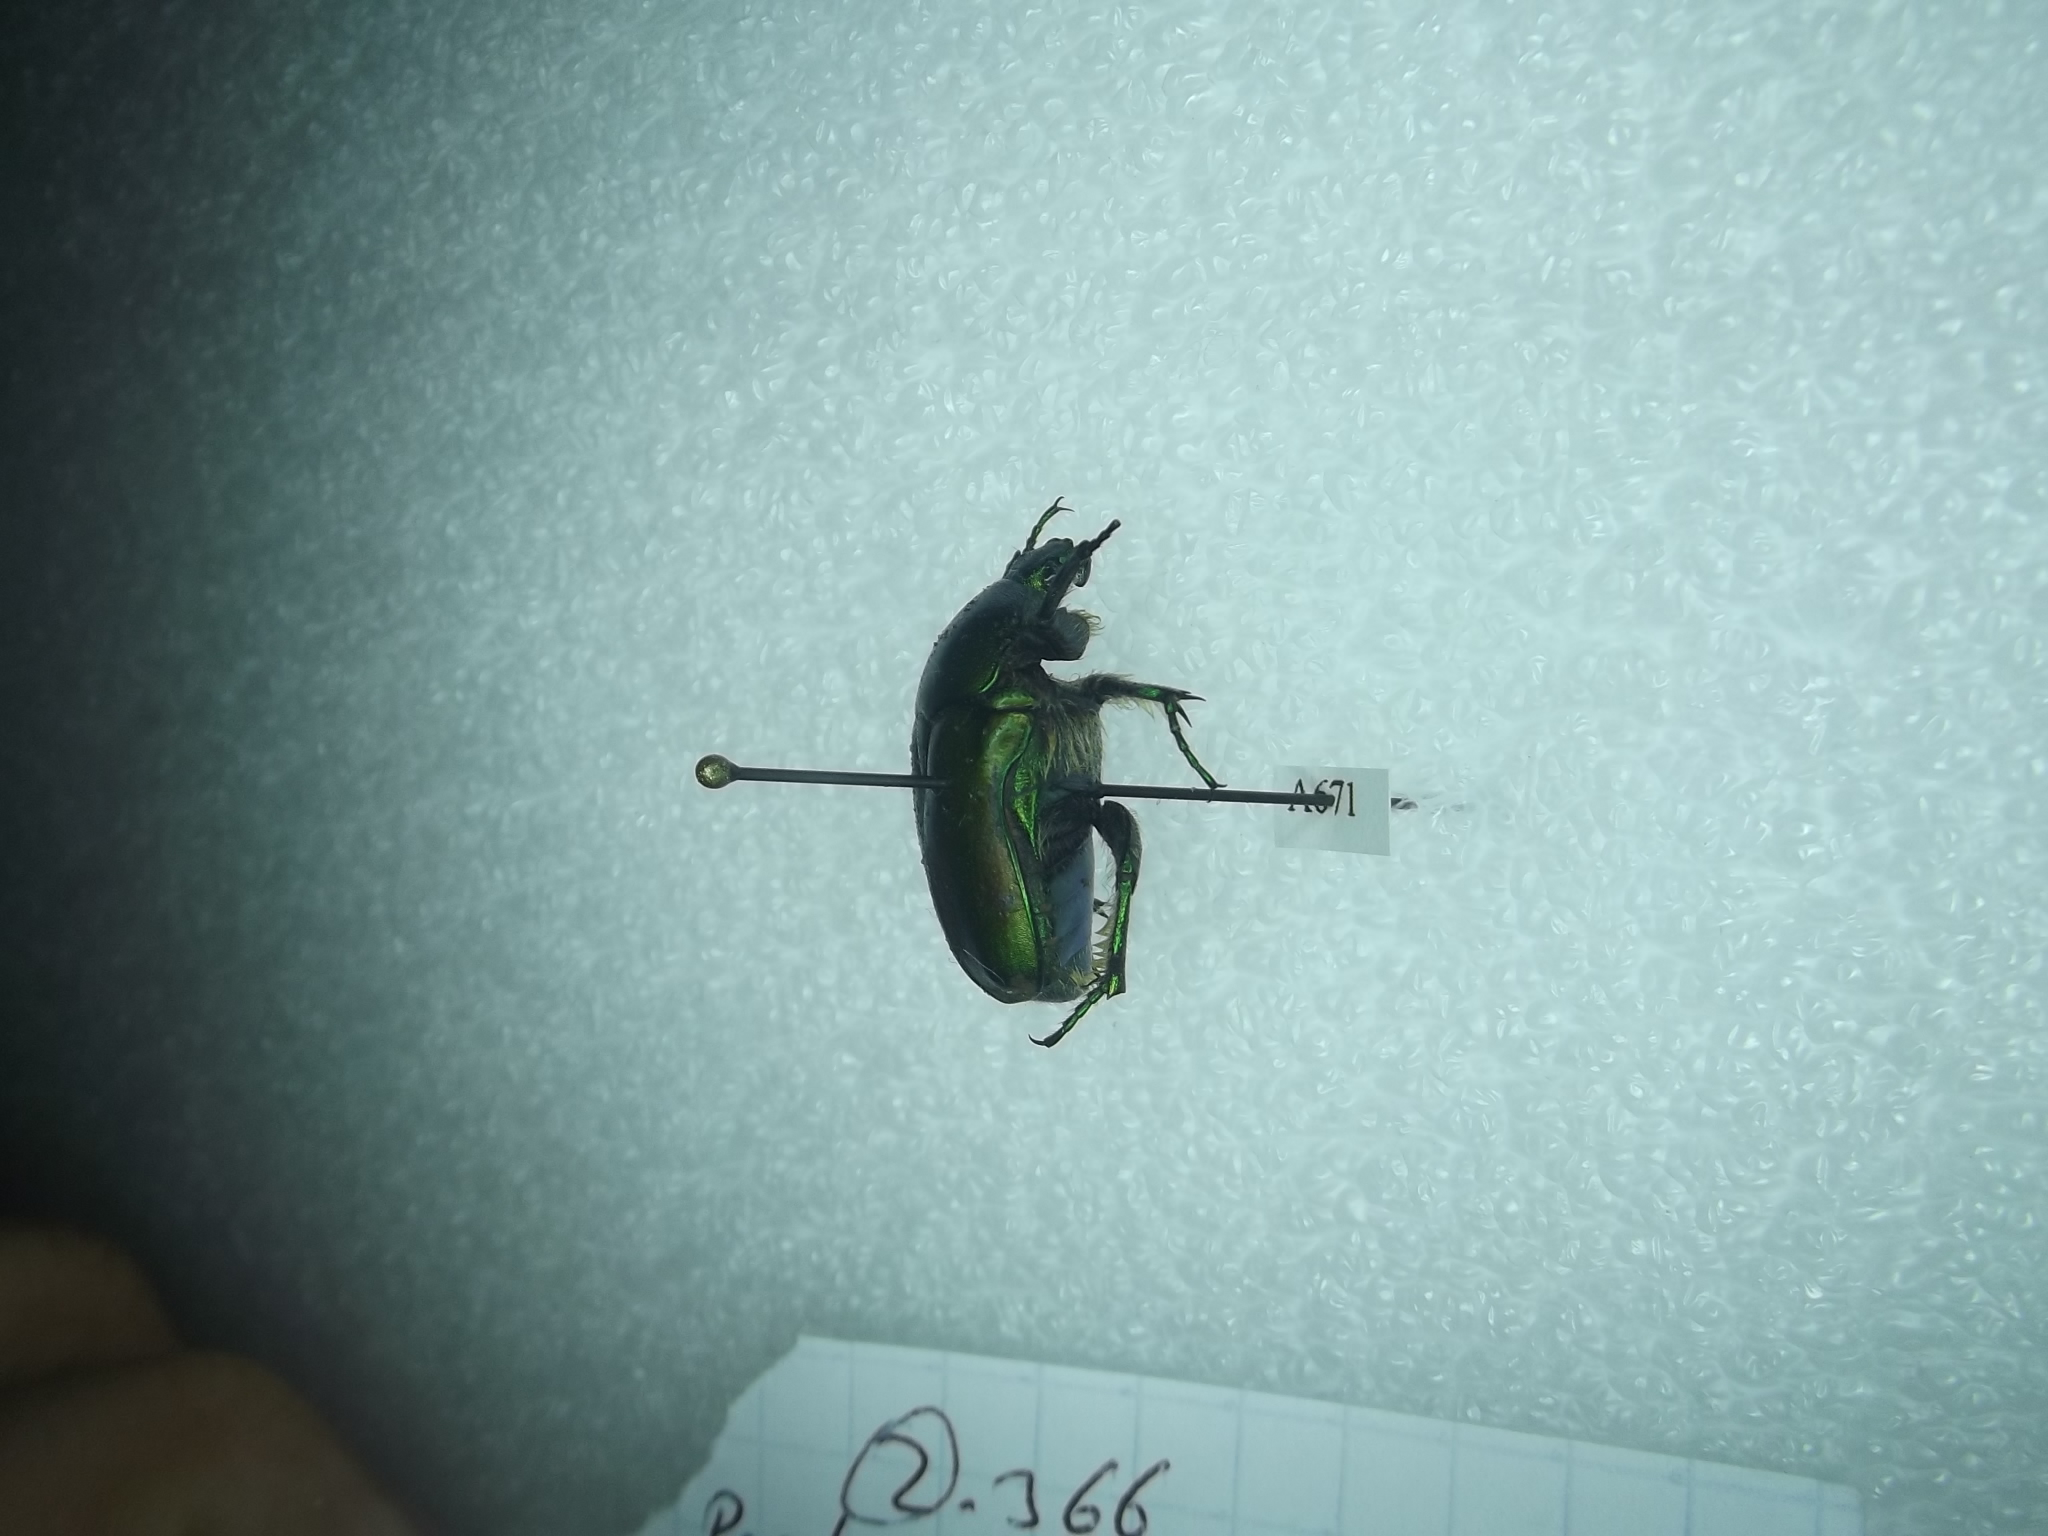Protaetia_ungarica_auliensis: (884, 474, 1238, 1050)
